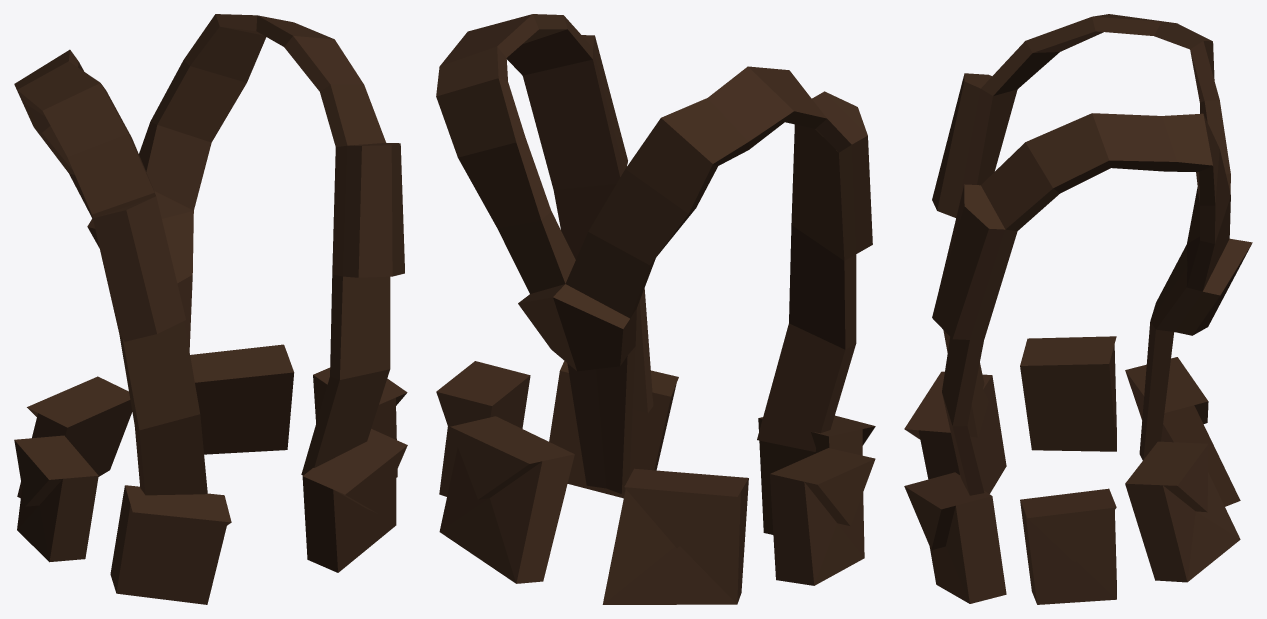
The model's file is Harness.fbx.
3 views of the same model, side by side, from view 1: azimuth 30°, elevation 25°; view 2: azimuth 150°, elevation 25°; view 3: azimuth 270°, elevation 25° (orthographic). The views are drawn at different scales.
Parts seen in each view (by area): view 1: Harness; view 2: Harness; view 3: Harness.
Boxes of the visible parts, box(x1,y1,x2,y2) form: Harness: box(14, 14, 407, 604); Harness: box(436, 14, 875, 604); Harness: box(904, 14, 1252, 604).
Bounding box in the file's own units: 40.62 × 51.14 × 33.18.
Materials: 1 (1 with a texture image).
